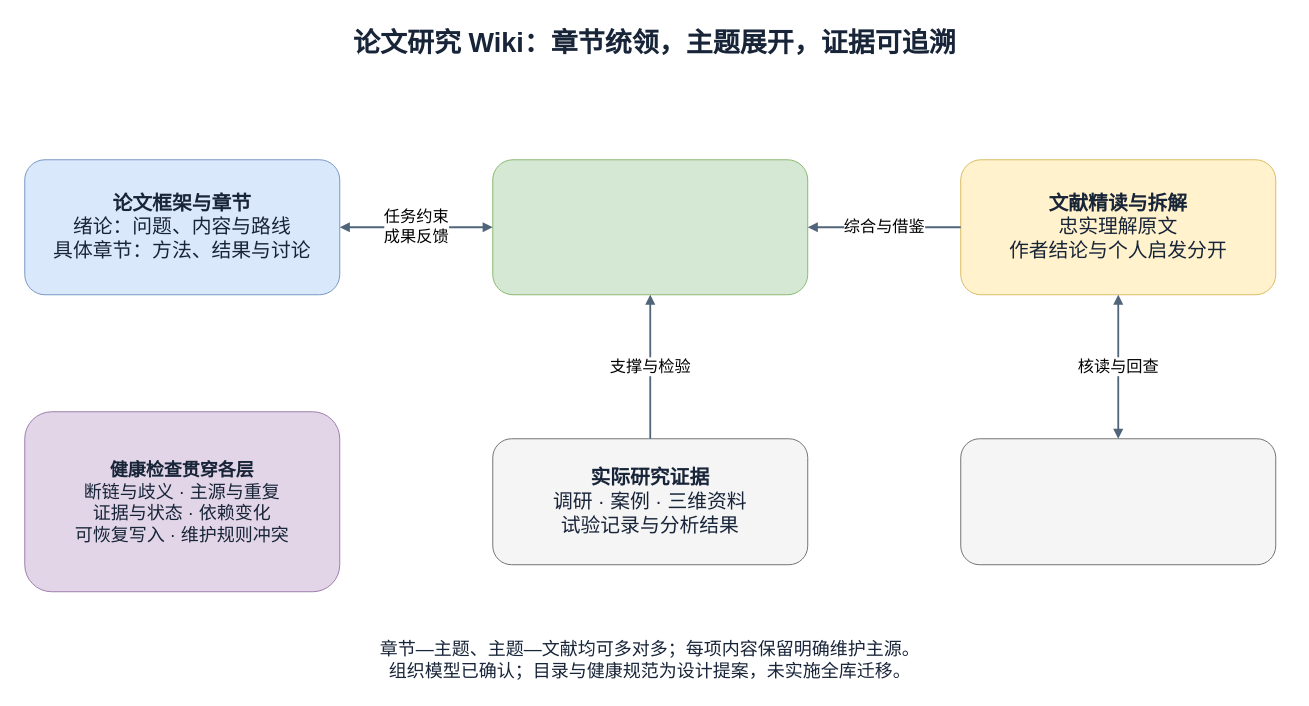
The diagram is 1309 pixels wide and 706 high, and some of its shapes have lost their labels. Here are the shapes that lost their labels. From the top down, the centre of each, then its label:
(x=650, y=227): 主题研究 比较依据 · 分析选择 阶段成果 · 验证与反例
(x=1118, y=501): 原始文献 Zotero 条目与 PDF 题名 · 作者 · 双页码定位
